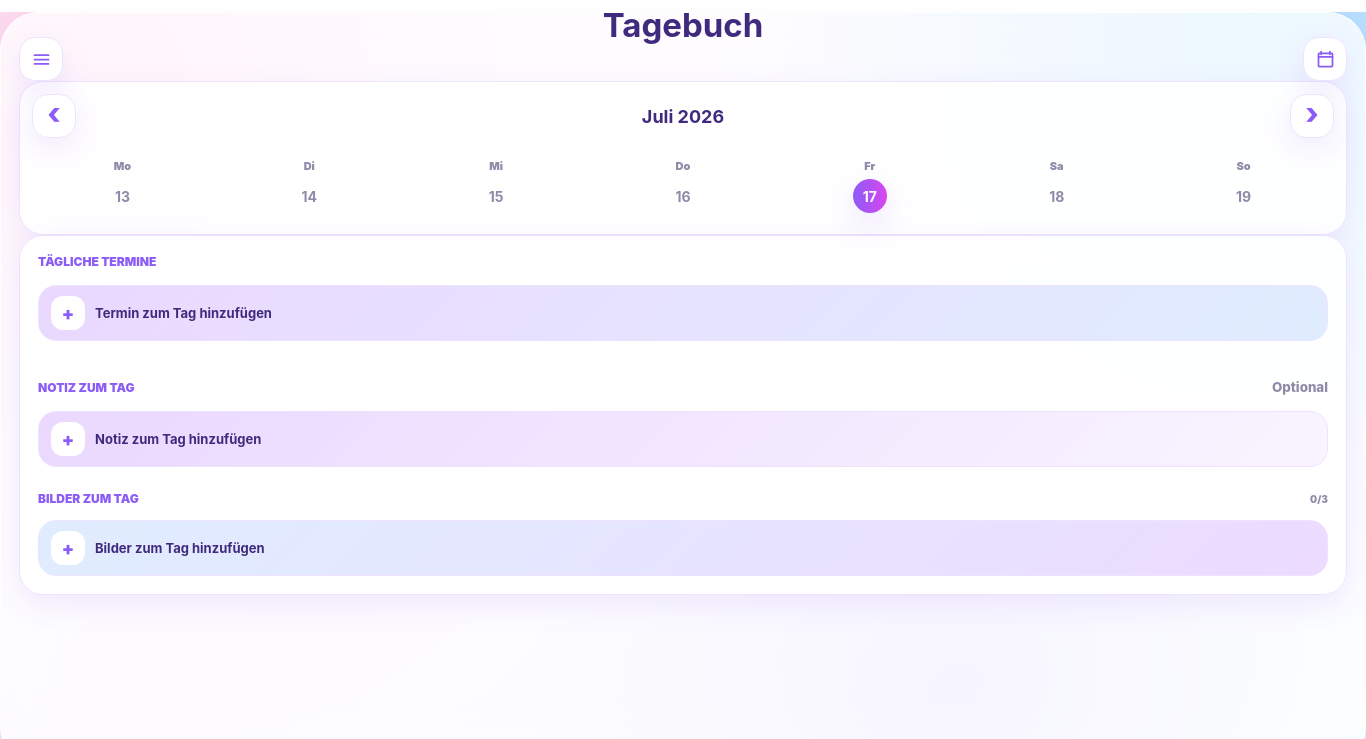
Test case: DailyCheckIn, diary and routines interactions › stores diary notes and adds calendar tasks
Click the button "+ Notiz zum Tag hinzufügen".
click(68, 439)  # box [38,411,1328,467]
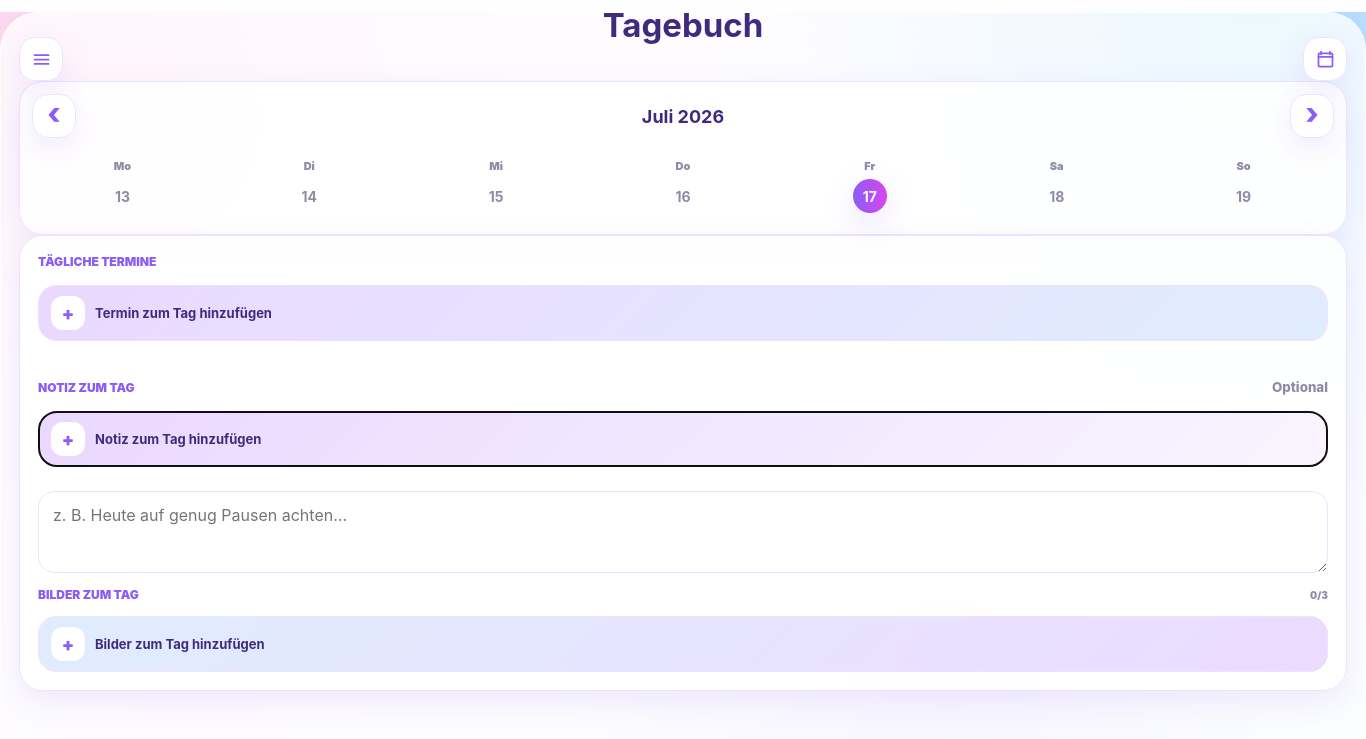
Type "Heute lernen" into the text box with placeholder "z. B. Heute auf genug Pausen achten...".
click(683, 532); type("Heute lernen")  # box [38,491,1328,573]
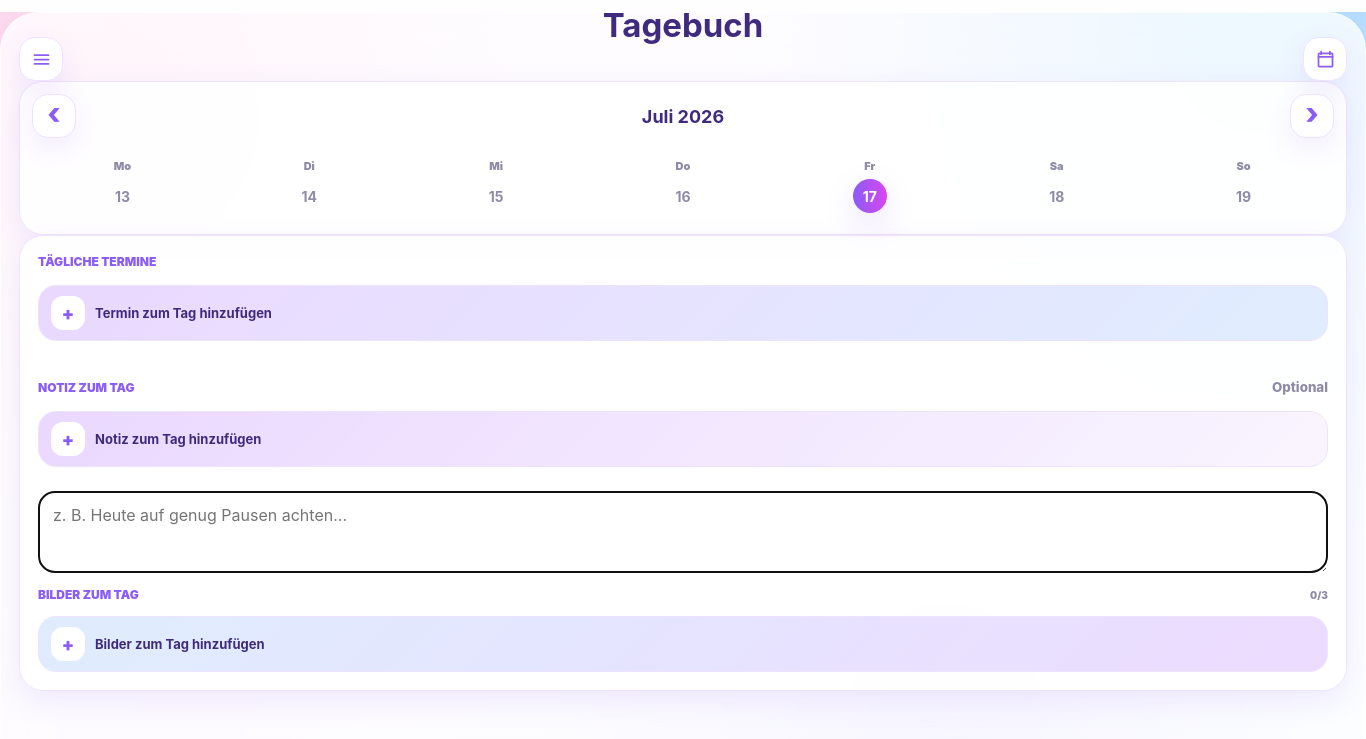
Click the button "+ Termin zum Tag hinzufügen".
click(68, 313)  # box [38,285,1328,341]
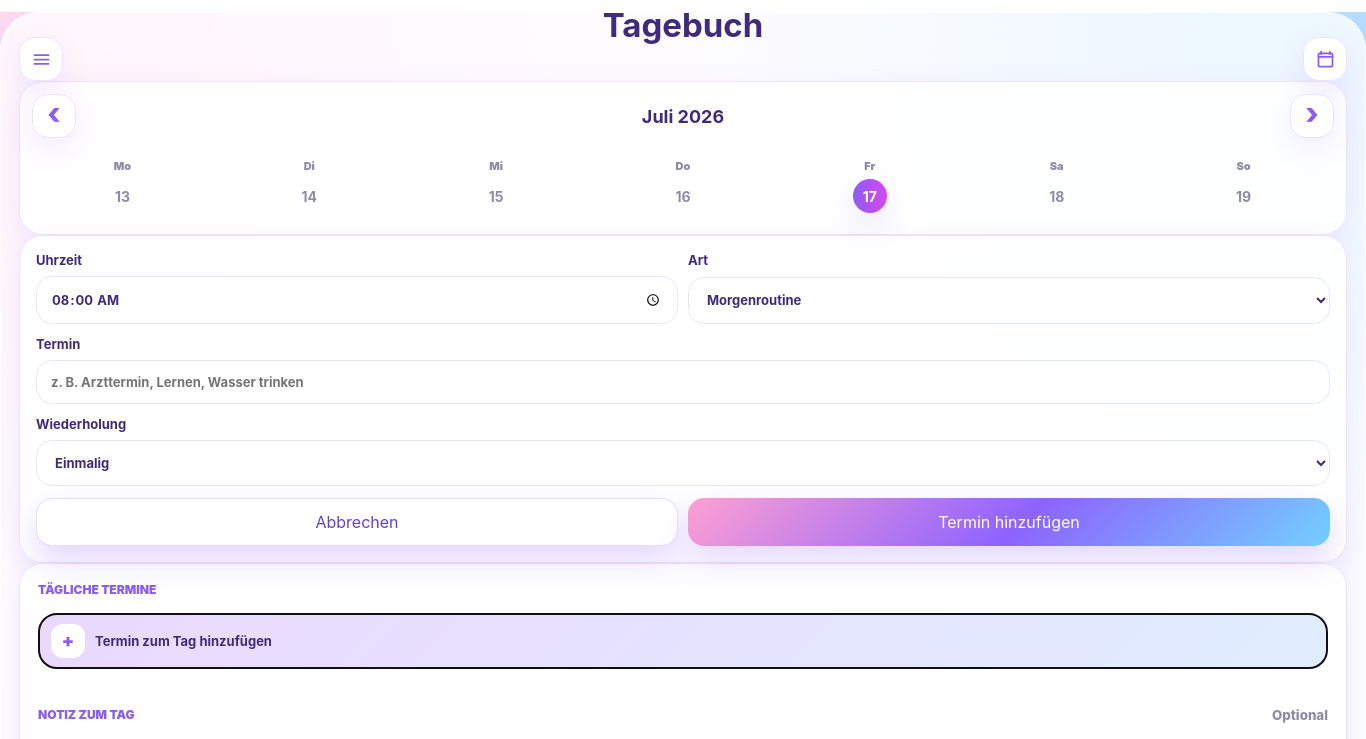
Type "Mathe lernen" into the field with placeholder "z. B. Arzttermin, Lernen, Wasser trinken".
click(683, 382); type("Mathe lernen")  # box [36,360,1330,404]
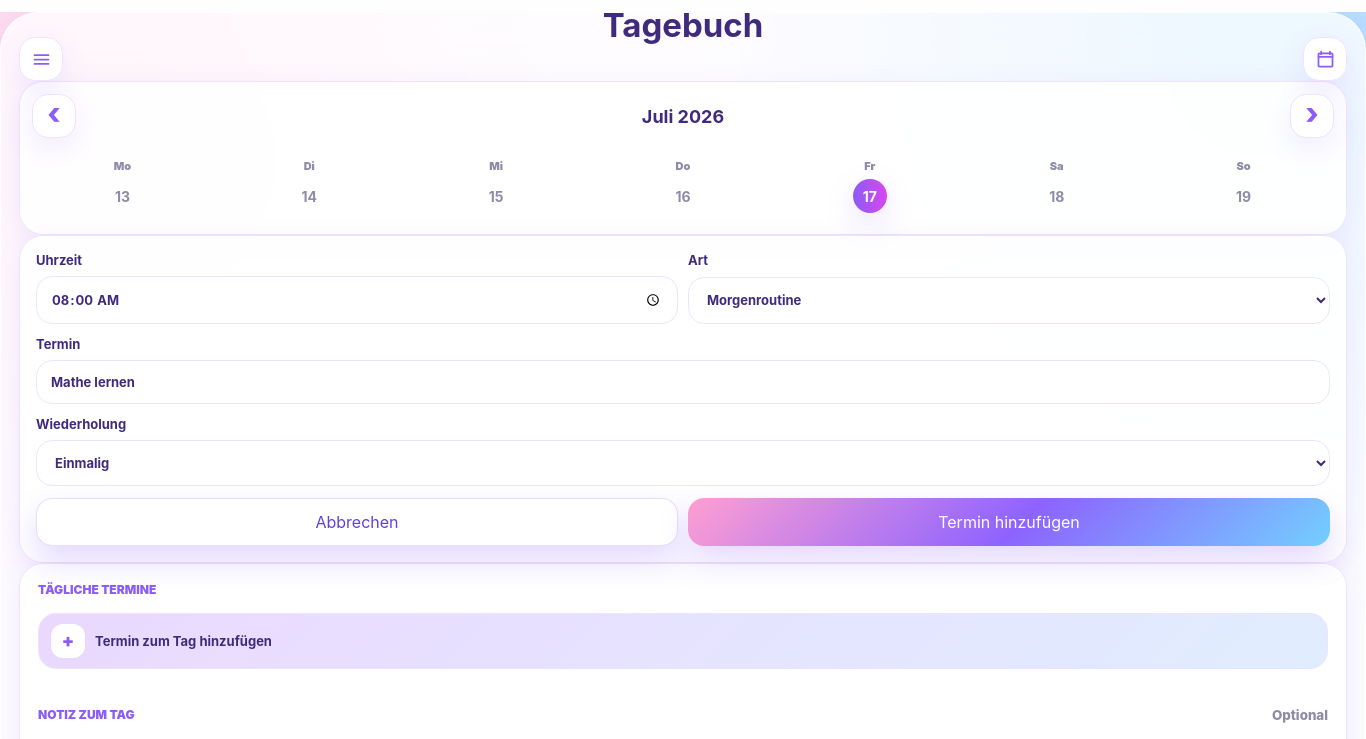
Click the button "Termin hinzufügen".
click(1009, 522)  # box [688,498,1330,546]
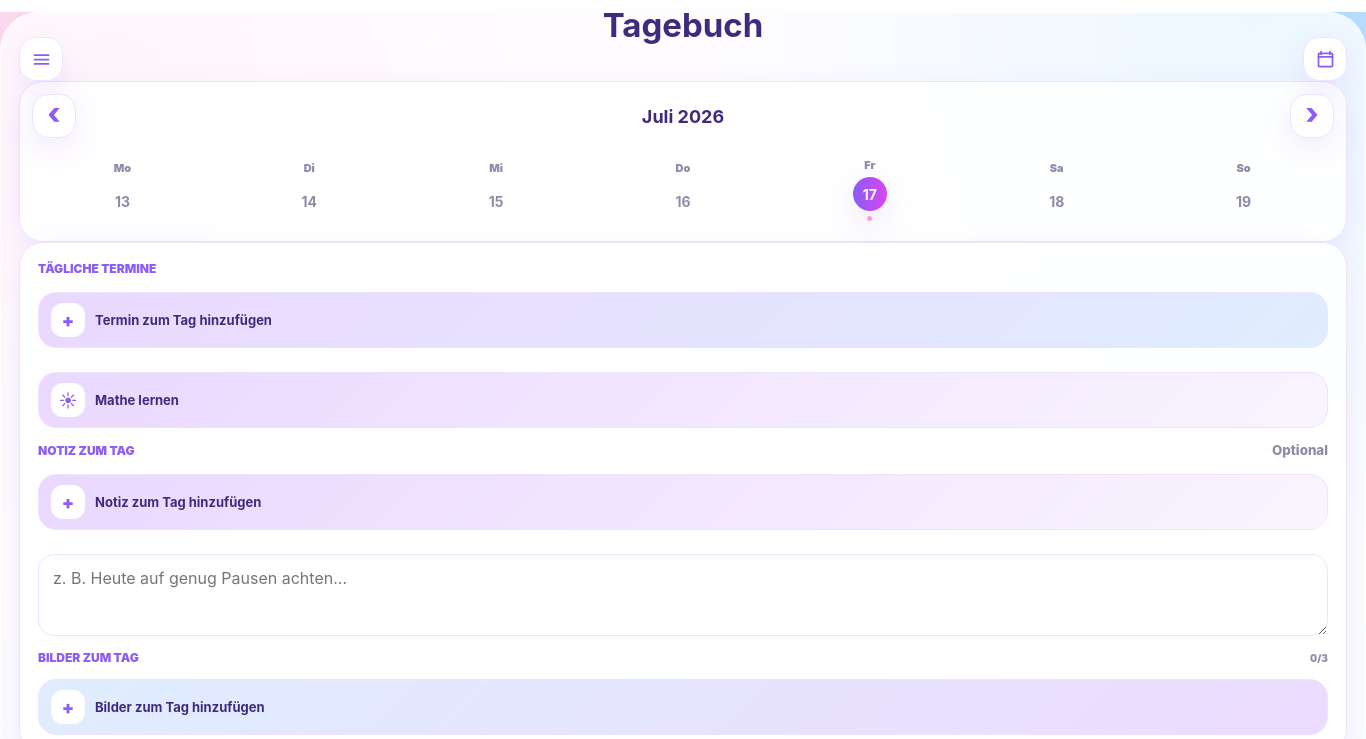
Now the text "Mathe lernen" is shown, box [95,392,179,408]
